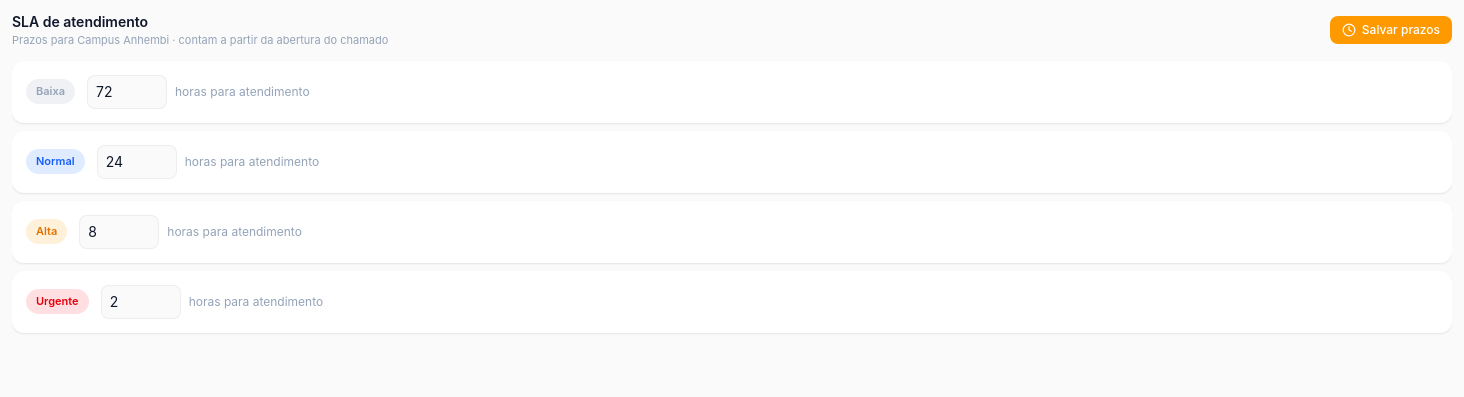
it: Settings — SLA gateado por Action (RBAC 2.0 / F2-D-G) › falha do service (Action revogada entre o clique e a escrita) aparece como erro
Replace the text in the number field showing "24" next to "Normal" with "12": (137, 162) x1=97 y1=144 x2=177 y2=178
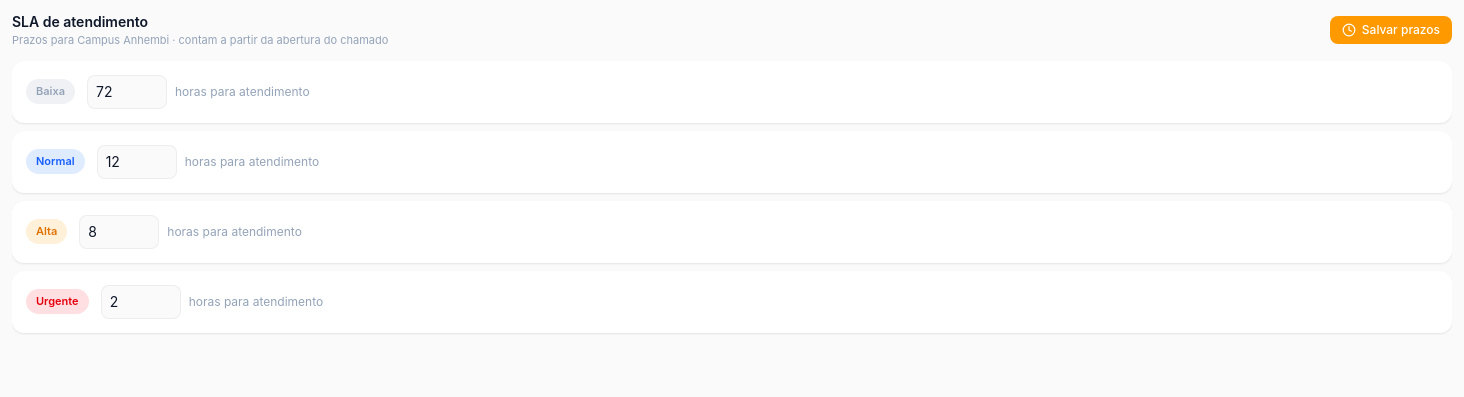
Click the button "Salvar prazos": click(1391, 30) x1=1330 y1=16 x2=1452 y2=44
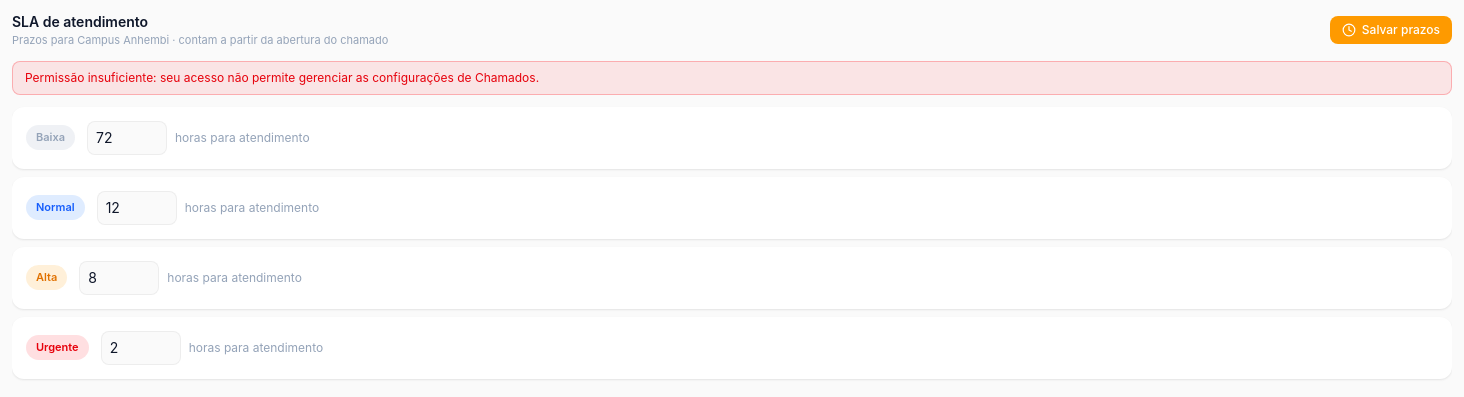
Expected: the text "Permissão insuficiente" is shown, x1=25 y1=70 x2=539 y2=84
